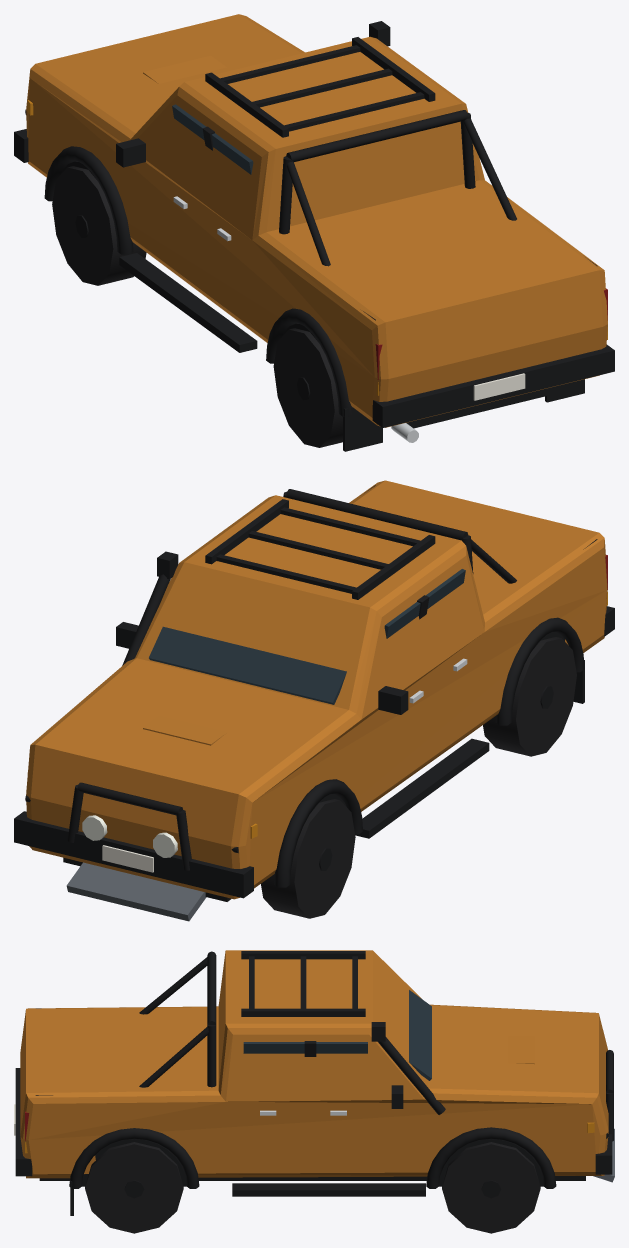
File: suv.glb
3 views of the same model, one above another, from view 1: azimuth 30°, elevation 25°; view 2: azimuth 150°, elevation 25°; view 3: azimuth 270°, elevation 25° (orthographic). The views are drawn at different scales.
Parts seen in each view (by area): view 1: body_shell, wheel_FL, wheel_RL, bumper_r, step_-1, flare_-1_-1.52, flare_-1_1.52, roll_top, chassis, mudflap_-1, hood_scoop, side_win_-1 (+11 smaller); view 2: body_shell, windscreen, wheel_FL, wheel_RL, bumper_f, skid_plate, step_-1, flare_-1_-1.52, flare_-1_1.52, roll_top, hood_scoop, side_win_-1 (+9 smaller); view 3: body_shell, wheel_FR, wheel_RR, step_1, flare_1_-1.52, flare_1_1.52, windscreen, side_win_1, chassis, rack_rail_1, rack_rail_-1, snorkel_run (+9 smaller).
Part boxes in pixels (box(x1,y1,x2,y2)): body_shell: box(26, 14, 607, 427); wheel_FL: box(52, 166, 146, 285); wheel_RL: box(273, 328, 342, 447); bumper_r: box(372, 344, 614, 427); step_-1: box(119, 253, 257, 352); flare_-1_-1.52: box(44, 146, 133, 254); flare_-1_1.52: box(266, 308, 352, 416); roll_top: box(286, 110, 468, 161); chassis: box(406, 384, 565, 428); mudflap_-1: box(343, 407, 382, 451); hood_scoop: box(143, 55, 226, 83); side_win_-1: box(172, 104, 253, 174); body_shell: box(26, 480, 607, 899); windscreen: box(149, 626, 346, 704); wheel_FL: box(261, 799, 355, 918); wheel_RL: box(483, 637, 576, 756); bumper_f: box(14, 811, 253, 898); skid_plate: box(66, 862, 206, 921); step_-1: box(355, 738, 489, 838); flare_-1_-1.52: box(274, 779, 362, 887); flare_-1_1.52: box(495, 617, 584, 725); roll_top: box(286, 489, 468, 540); hood_scoop: box(143, 716, 226, 745); side_win_-1: box(384, 569, 465, 638); body_shell: box(20, 950, 608, 1178); wheel_FR: box(442, 1142, 540, 1233); wheel_RR: box(85, 1142, 183, 1233); step_1: box(232, 1183, 425, 1196); flare_1_-1.52: box(426, 1127, 556, 1188); flare_1_1.52: box(69, 1128, 199, 1188); windscreen: box(409, 990, 431, 1080); side_win_1: box(243, 1042, 367, 1053); chassis: box(39, 1176, 585, 1180); rack_rail_1: box(241, 1008, 365, 1016); rack_rail_-1: box(241, 951, 365, 959); snorkel_run: box(378, 1037, 445, 1114).
Bounding box in the file's own units: 2.26 × 1.93 × 5.12.
